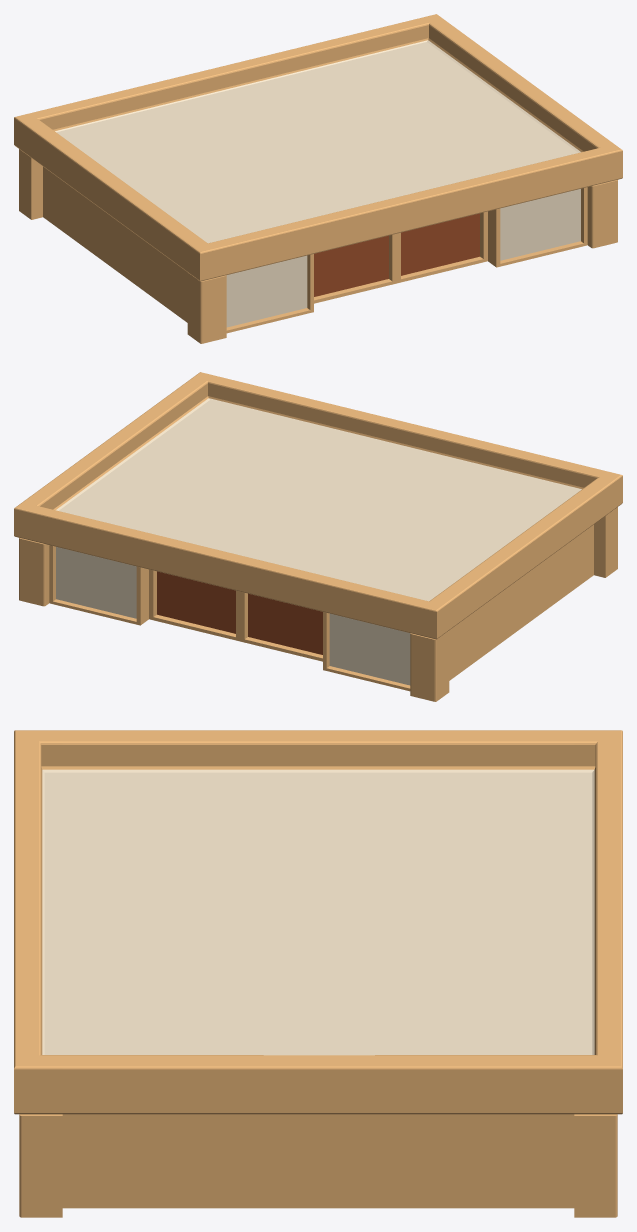
File: japanese_sipariş masası.fbx
3 views of the same model, one above another, from view 1: azimuth 30°, elevation 25°; view 2: azimuth 150°, elevation 25°; view 3: azimuth 270°, elevation 25° (orthographic). The views are drawn at different scales.
Visible parts, largest first — view 1: yemeklerin_oturdugu_yer; view 2: yemeklerin_oturdugu_yer; view 3: yemeklerin_oturdugu_yer.
Boxes of the visible parts, x1=… form: yemeklerin_oturdugu_yer: x1=14, y1=14, x2=622, y2=343; yemeklerin_oturdugu_yer: x1=14, y1=372, x2=622, y2=701; yemeklerin_oturdugu_yer: x1=14, y1=730, x2=622, y2=1217.
Size of the model in its own units: 231 by 48.71 by 176.
